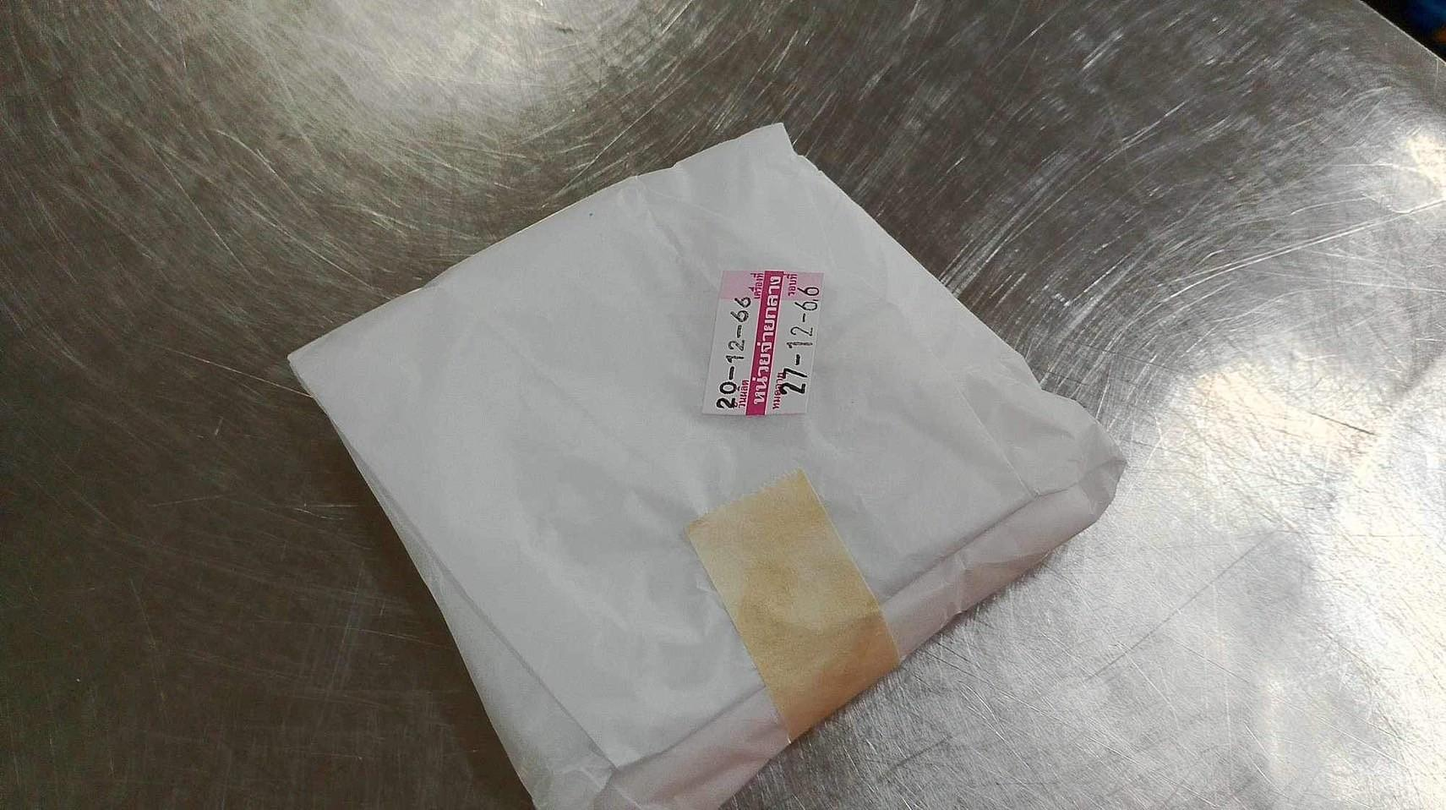General: (698, 266, 826, 421)
Pathological: (283, 119, 1129, 805)
